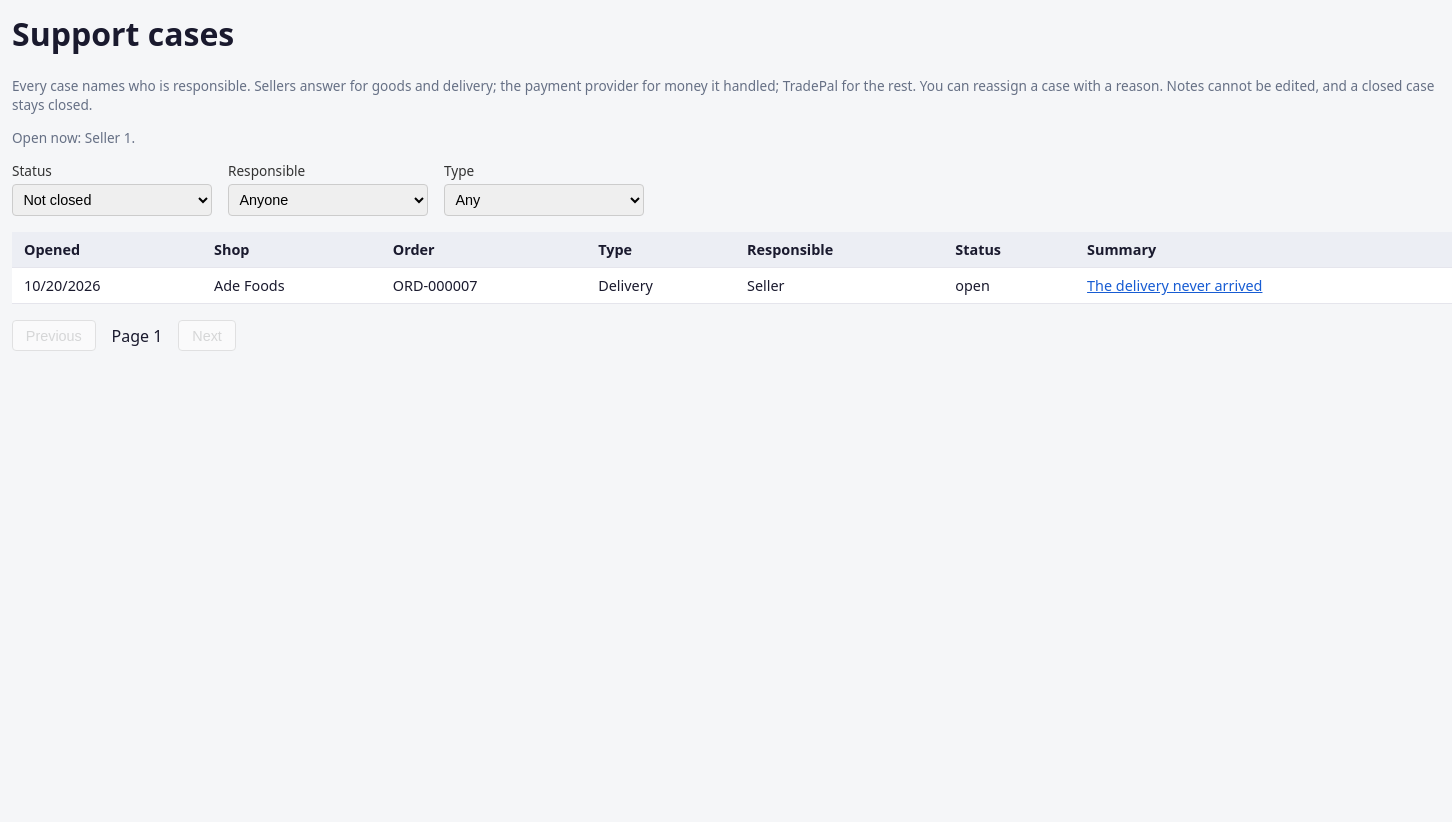
Test: SupportCasesPage › shows a closed case read-only
The width and height of the screenshot is (1452, 822).
Click the button "The delivery never arrived" at (1175, 286), box [1087,276,1262,295]
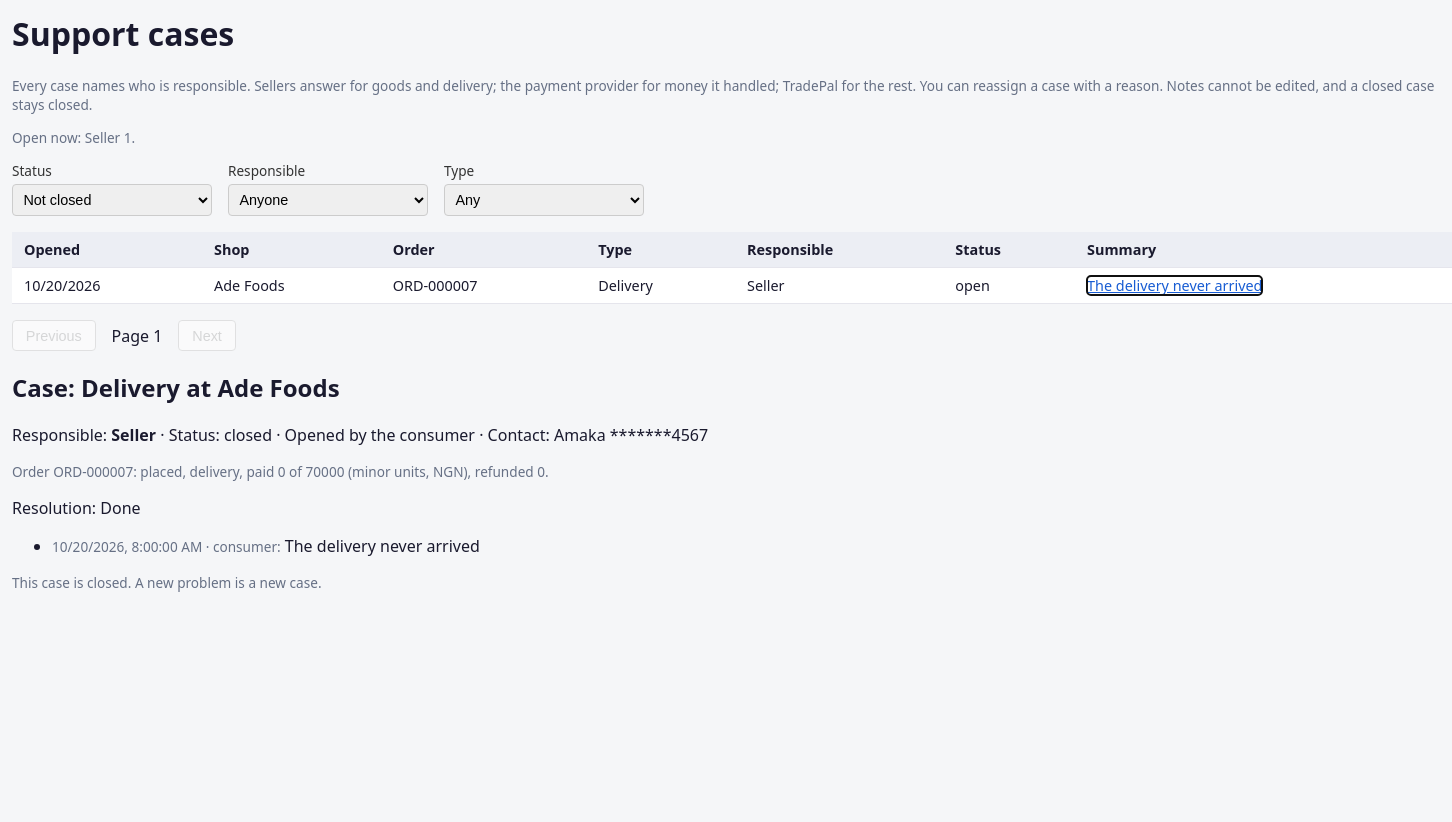
Now the text "This case is closed. A new problem is a new case." is shown, box [12,573,322,592]
